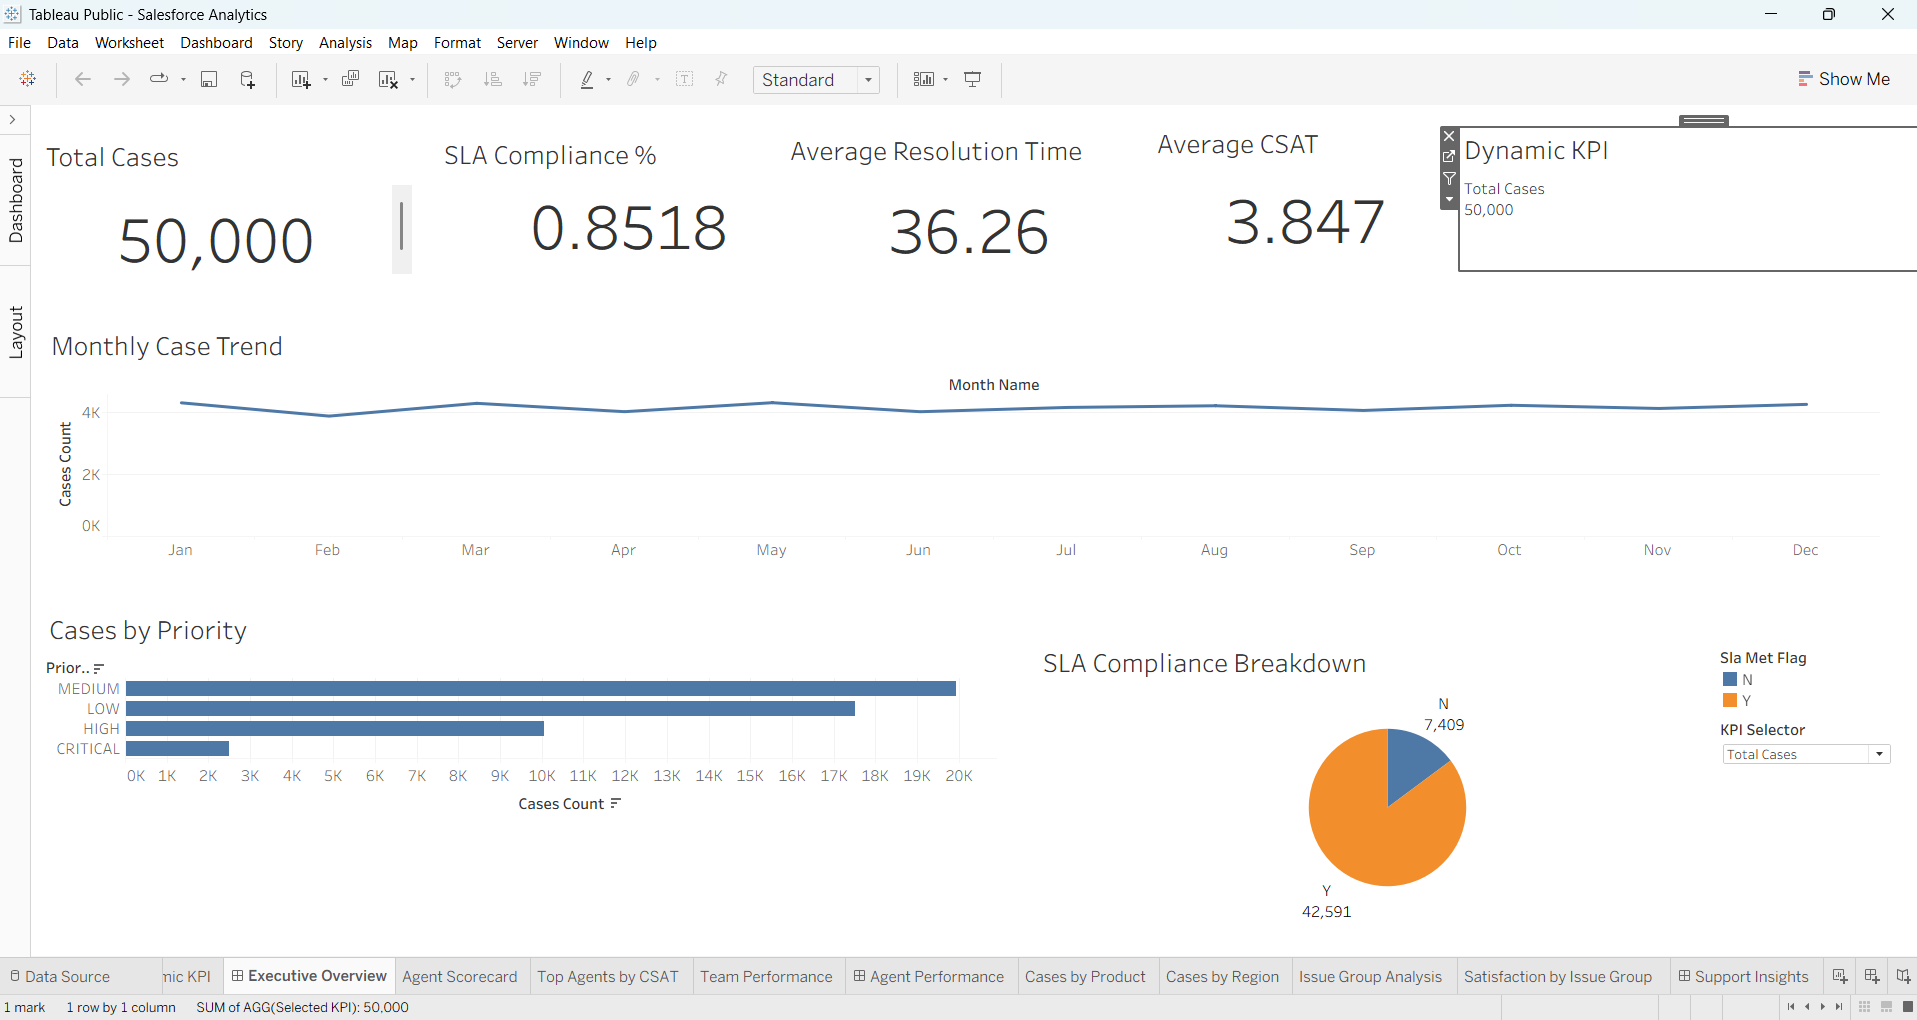

The page's visual inventory and layout, read from the dashboard file:
{"tool":"tableau","page":{"name":"Executive Overview","canvas":[1000,1000],"units":"permille","ordinal":1},"visuals":[{"type":"worksheet","title":"Average CSAT","mark":"Automatic","box":[594.5,20,162.3,170.4]},{"type":"worksheet","title":"Average Resolution Time","mark":"Automatic","box":[400.1,28.2,193.7,176.3]},{"type":"worksheet","title":"SLA Compliance %","mark":"Automatic","box":[216.7,32.9,200.4,158.6]},{"type":"worksheet","title":"Total Cases","mark":"Automatic","box":[6,35.2,196.1,163.3]},{"type":"worksheet","title":"Monthly Case Trend","mark":"Line","rows":["Calculation_1672647831879680"],"cols":["MONTH_NAME"],"box":[8.4,257.3,971,278.5]},{"type":"worksheet","title":"Cases by Priority","mark":"Automatic","rows":["PRIORITY"],"cols":["Calculation_1672647831879680"],"box":[7.2,591.1,504.5,361.9]},{"type":"worksheet","title":"SLA Compliance Breakdown","mark":"Pie","box":[534.1,629.9,369.3,332.6]},{"type":"legend","title":"SLA Compliance Breakdown","param":"[federated.16mk3j20w24yk80zsf20j0zalln4].[none:SLA_MET_FLAG:nk]","box":[892.6,632.2,96.6,84.6]},{"type":"parameter","param":"[Parameters].[Parameter 1482707458244614]","box":[892.6,716.8,96.6,65.8]}]}

Visuals, with their boxes on the dashboard's canvas, which has no fixed pixel size, in thousandths of its width and height (x1, y1, x2, y2). These are canvas units, not pixel positions in the 1917x1020 screenshot, which may show the page scaled, cropped or inside an application window:
"Average CSAT" worksheet: 594 20 757 190
"Average Resolution Time" worksheet: 400 28 594 204
"SLA Compliance %" worksheet: 217 33 417 192
"Total Cases" worksheet: 6 35 202 198
"Monthly Case Trend" worksheet (Line marks): 8 257 979 536
"Cases by Priority" worksheet: 7 591 512 953
"SLA Compliance Breakdown" worksheet (Pie marks): 534 630 903 962
"SLA Compliance Breakdown" legend: 893 632 989 717
parameter: 893 717 989 783
